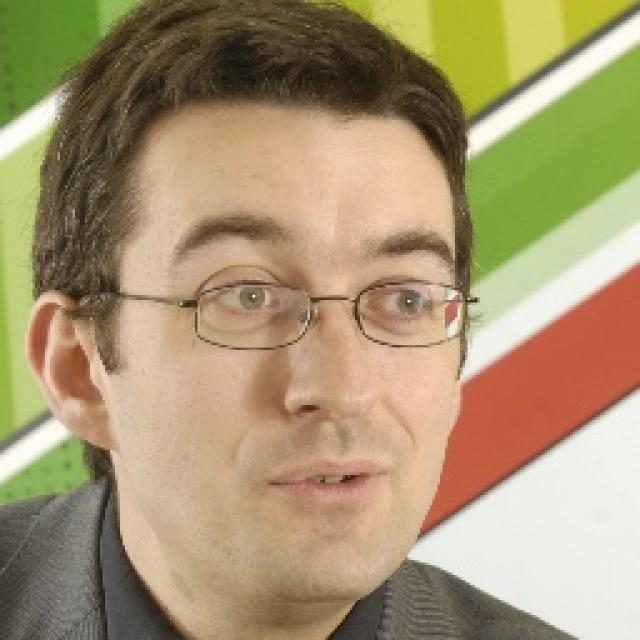earlobe: (22, 291, 112, 448)
